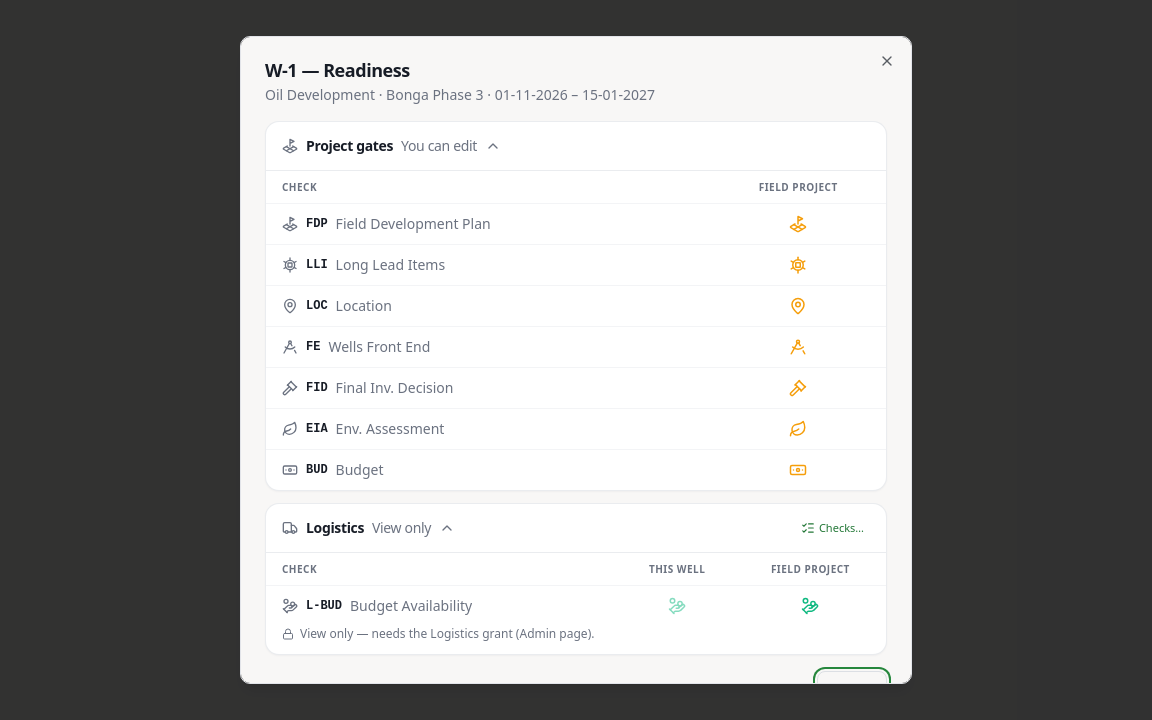
ActivityReadinessPanel › the Project gates' menus keep N/A
Click the button named "click to change": click(798, 224) [784,210,812,238]
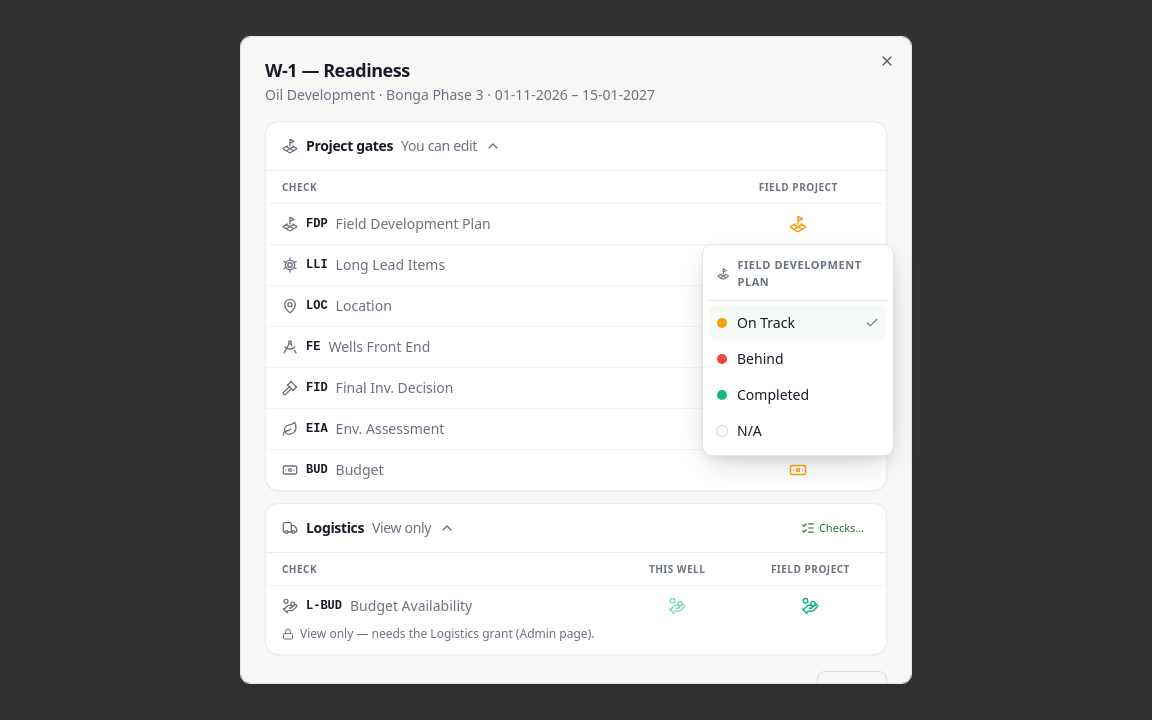
Check: the menu item "N/A" is shown, box [717,421,762,440]
